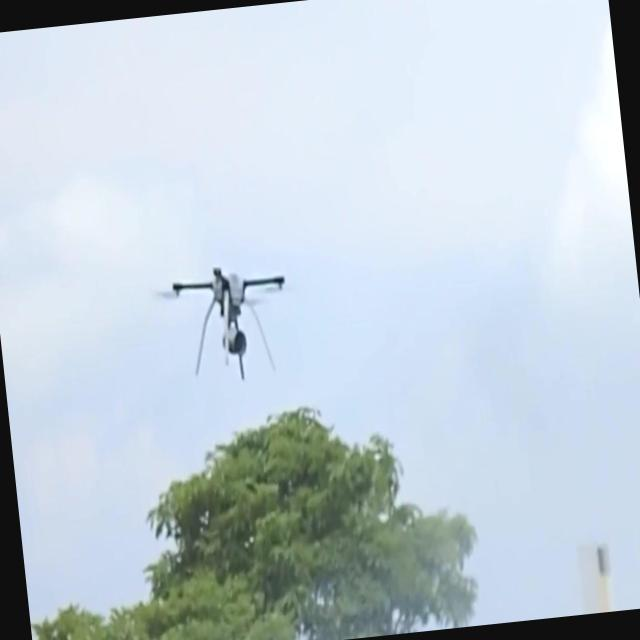drone: (169, 256, 298, 390)
